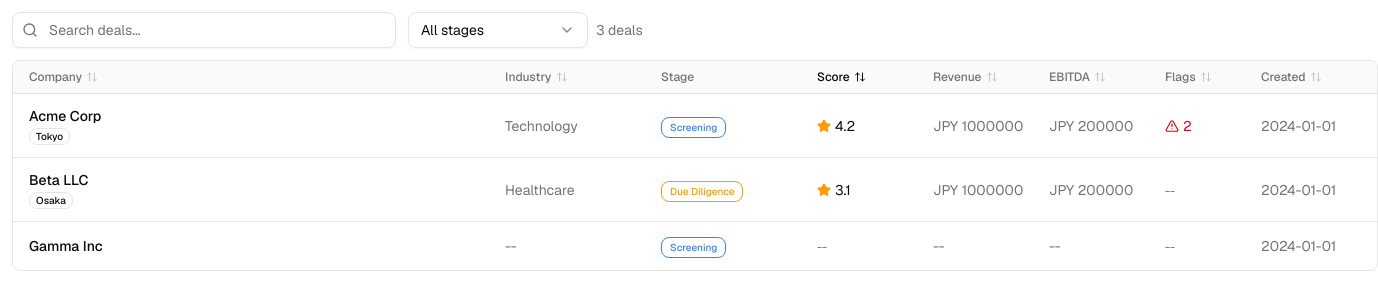
DealListView › shows empty state when no deals match filters
Type "nonexistent" into the field with placeholder "Search deals..." at (204, 30), box [12,12,396,48]
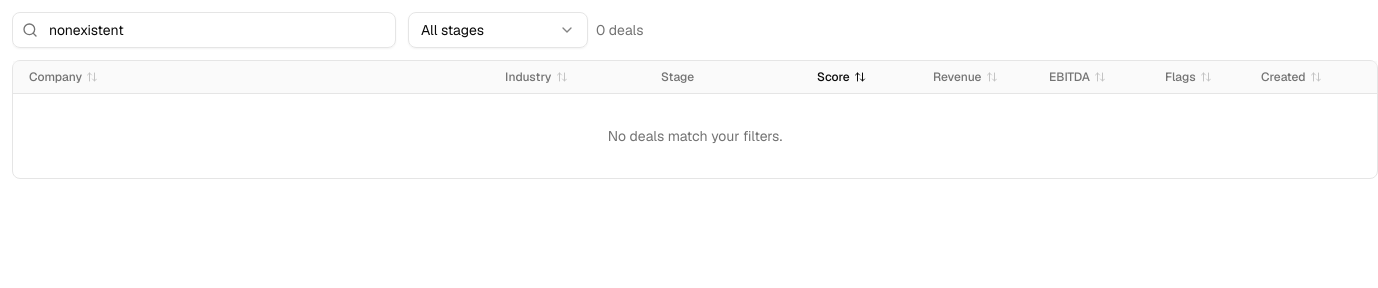
Check: the text "No deals match your filters." is shown, box [608,127,782,145]
